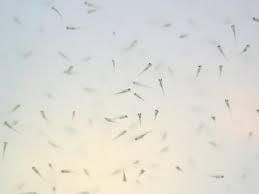fish: (130, 60, 156, 83), (129, 128, 157, 145), (223, 96, 237, 126), (190, 60, 205, 80), (110, 56, 120, 79)
